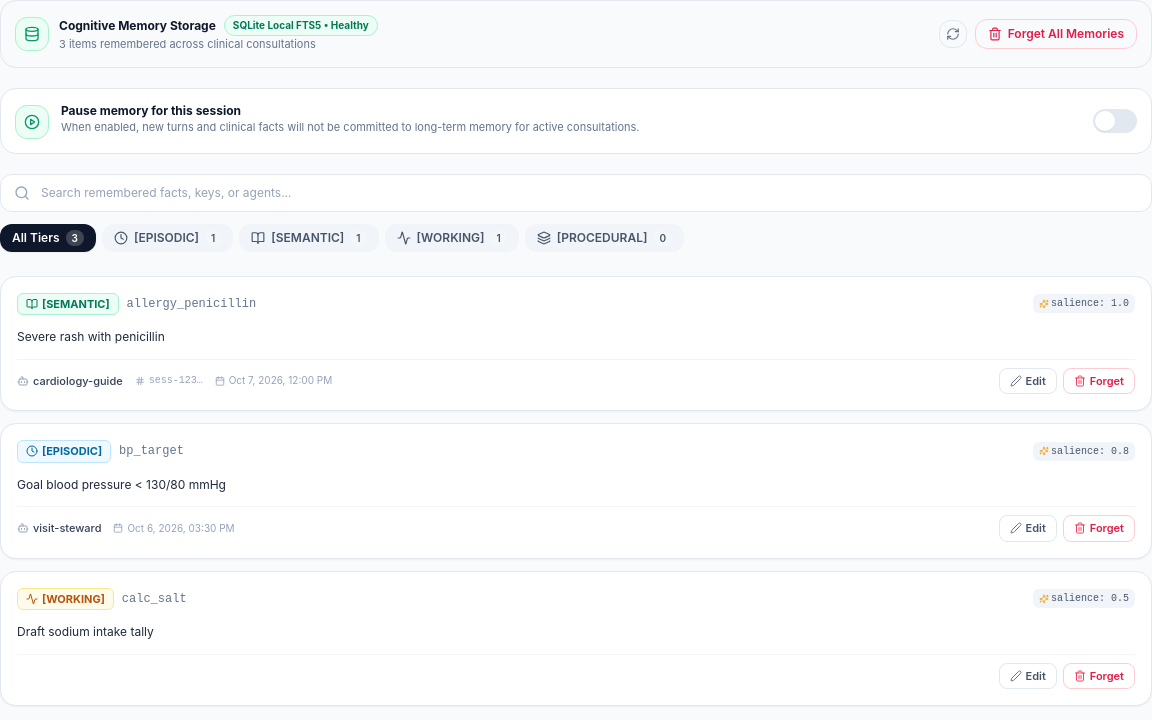
it: MemoryManagementPanel Component › allows editing fact text and saves updates
# Click Edit button
Step 1. Click the button with test id "edit-memory-btn-allergy_penicillin" → (1028, 381), box top-left (998, 368), bottom-right (1057, 394)
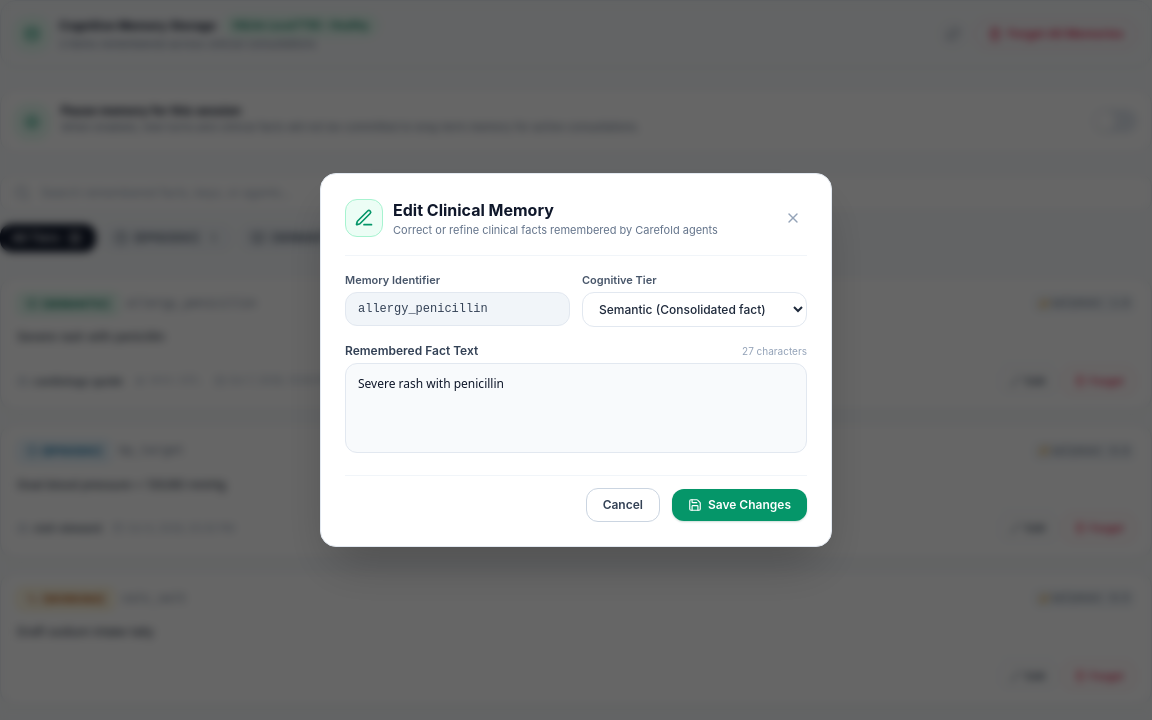
Expected: the dialog is shown
Expected: the heading "Edit Clinical Memory" is shown, top-left (393, 200), bottom-right (554, 220)
Step 2. Replace the text in the text box with test id "edit-memory-value-input" with "Severe anaphylactic reaction with penicillin" → (576, 408), box top-left (345, 363), bottom-right (807, 453)
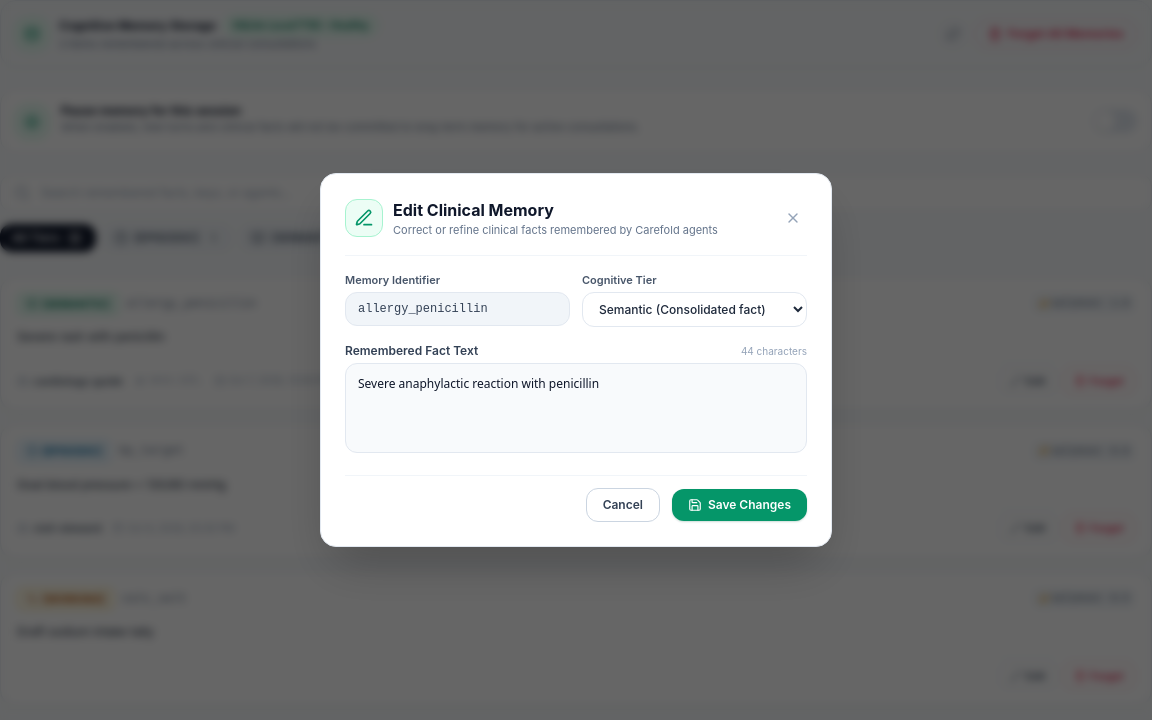
# Save changes
Step 3. Click the button with test id "save-memory-edit-btn" → (739, 505), box top-left (672, 489), bottom-right (807, 521)
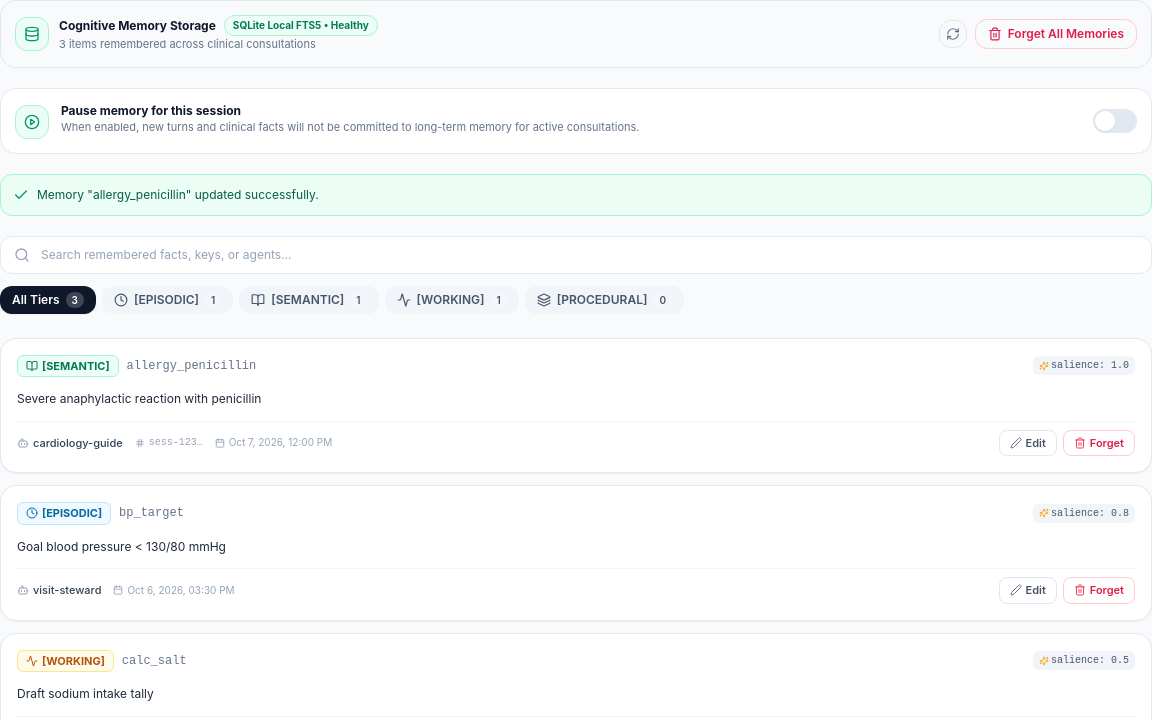
Expected: the text "Severe anaphylactic reaction with penicillin" is shown, top-left (17, 391), bottom-right (261, 406)
Expected: the message "Memory \"allergy_penicillin\" updated successfully." is shown, top-left (0, 174), bottom-right (1151, 216)
